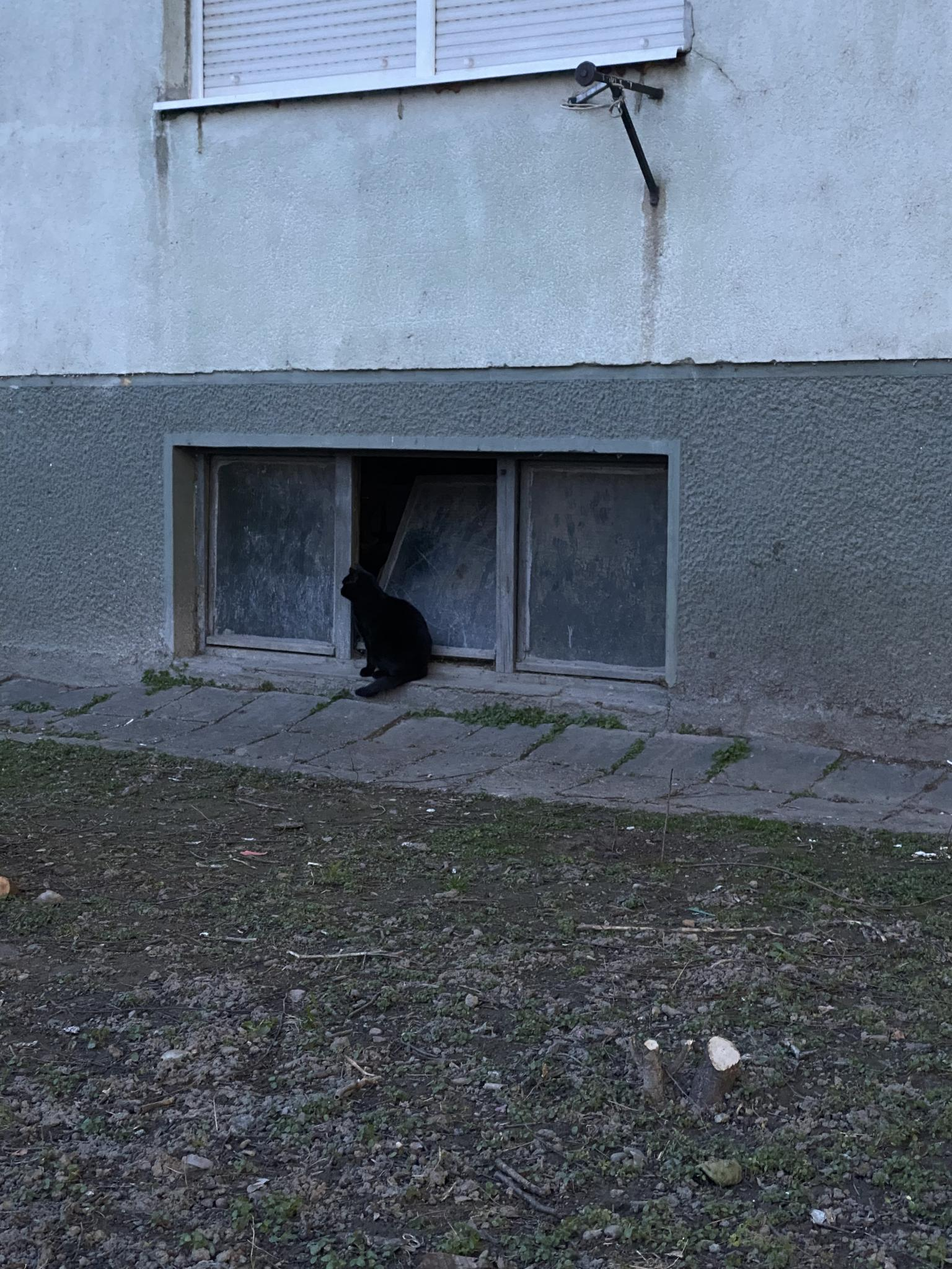macka: (340, 564, 432, 697)
